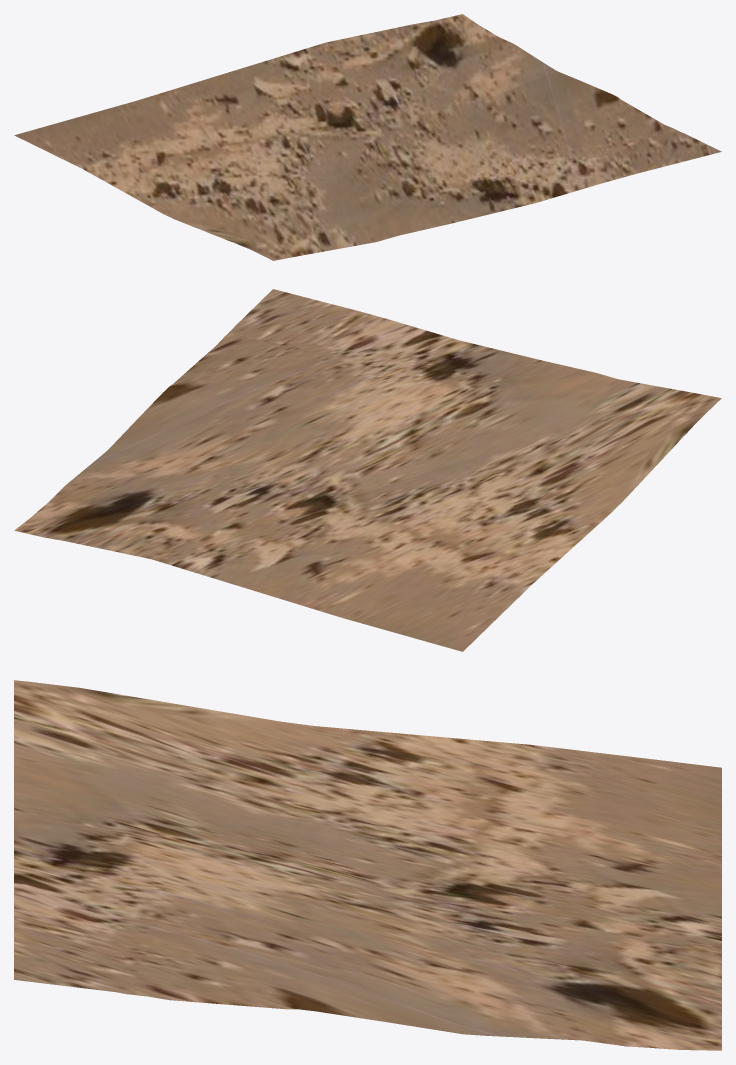
The picture shows the model from 3 angles, top to bottom: view 1: azimuth 30°, elevation 25°; view 2: azimuth 150°, elevation 25°; view 3: azimuth 270°, elevation 25°; orthographic projection. The views are drawn at different scales.
Bounding box in the file's own units: 1.04 × 0.1425 × 1.04.
3 materials, 3 textured.
